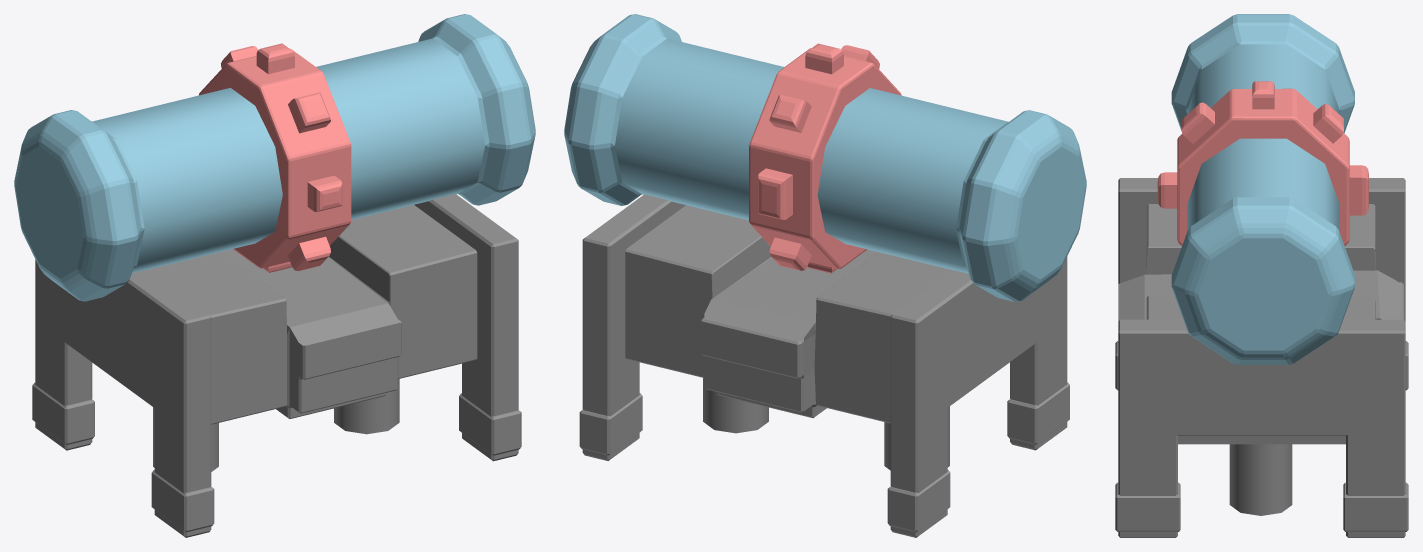
Rendered from реактор.FBX.
The picture shows the model from 3 angles, left to right: view 1: azimuth 30°, elevation 25°; view 2: azimuth 150°, elevation 25°; view 3: azimuth 270°, elevation 25°; orthographic projection. The views are drawn at different scales.
Parts seen in each view (by area): view 1: Cylinder003, Box003, Box005, Box006; view 2: Cylinder003, Box003, Box005, Box006; view 3: Box003, Cylinder003, Box006, Box005.
Part boxes in pixels (bbox=[...]): Cylinder003: bbox=[14, 14, 535, 301]; Box003: bbox=[32, 194, 521, 537]; Box005: bbox=[147, 205, 477, 424]; Box006: bbox=[199, 43, 351, 272]; Cylinder003: bbox=[564, 14, 1086, 301]; Box003: bbox=[579, 194, 1069, 537]; Box005: bbox=[625, 205, 952, 423]; Box006: bbox=[749, 43, 901, 273]; Box003: bbox=[1115, 178, 1408, 537]; Cylinder003: bbox=[1171, 14, 1354, 364]; Box006: bbox=[1157, 81, 1368, 245]; Box005: bbox=[1118, 204, 1403, 444].
Bounding box in the file's own units: 128 × 107 × 75.69.
